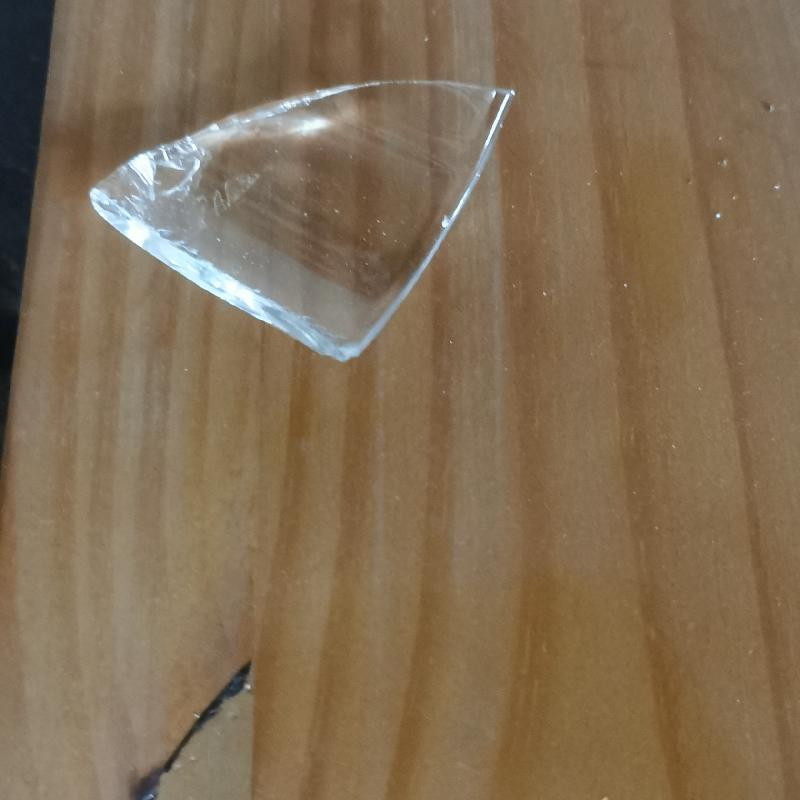glass: (87, 75, 522, 364)
